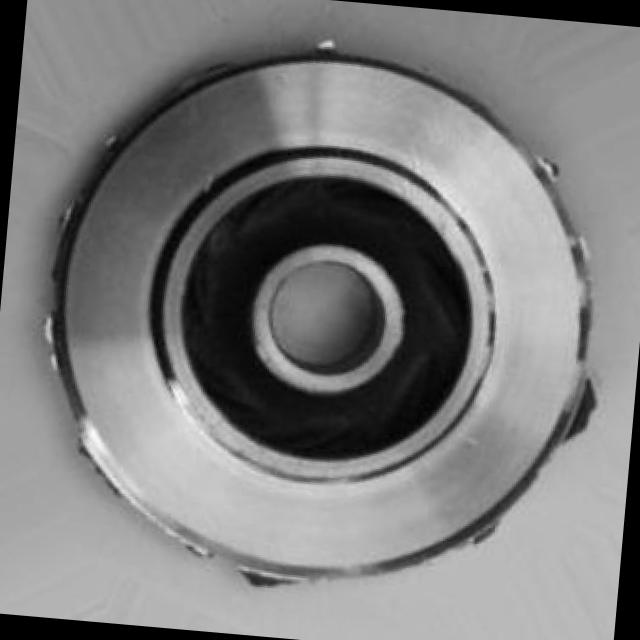Defect: (560, 355, 609, 450)
